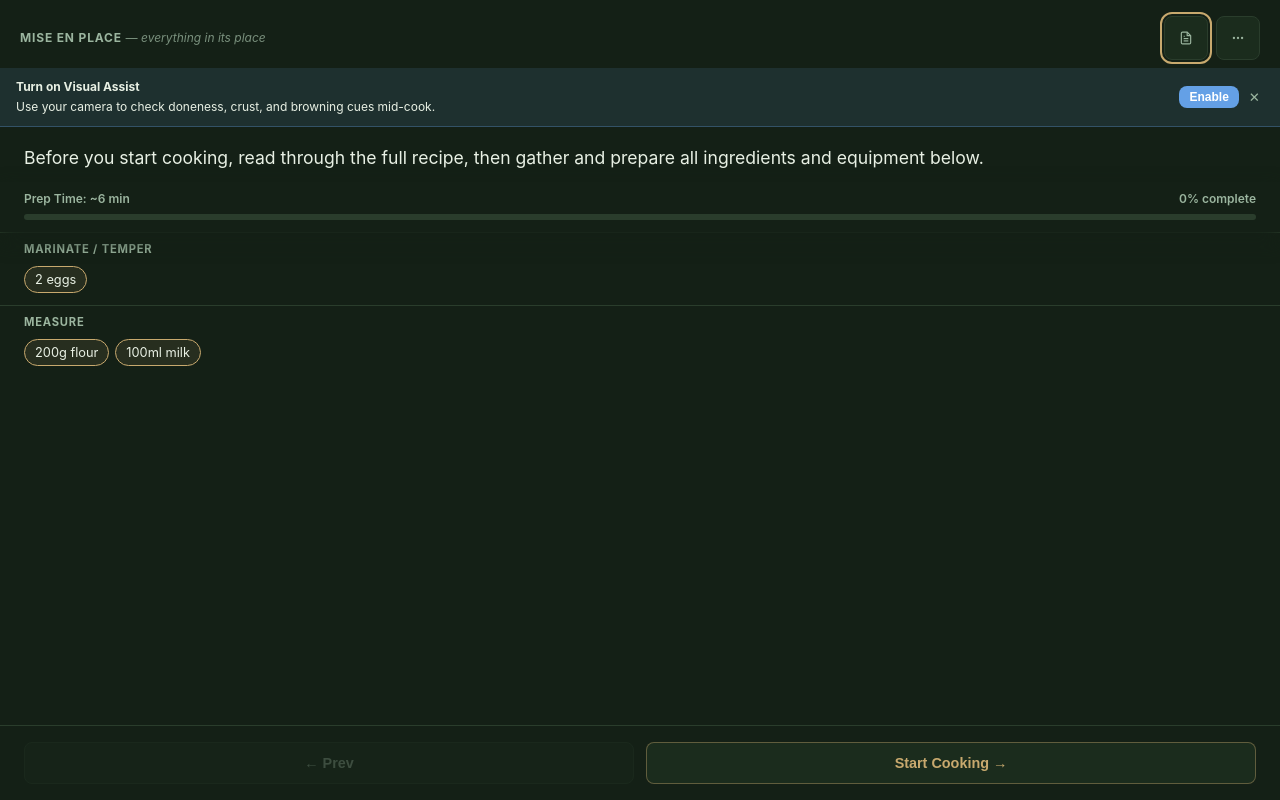
Scenario: CookingNavigator — hands-free button › shows unsupported message when Speech API unavailable
What coordinates should you click on to do the following:
click the button titled "Options"
I would click on:
 (1238, 38)
Its box is [1216,16,1260,60].
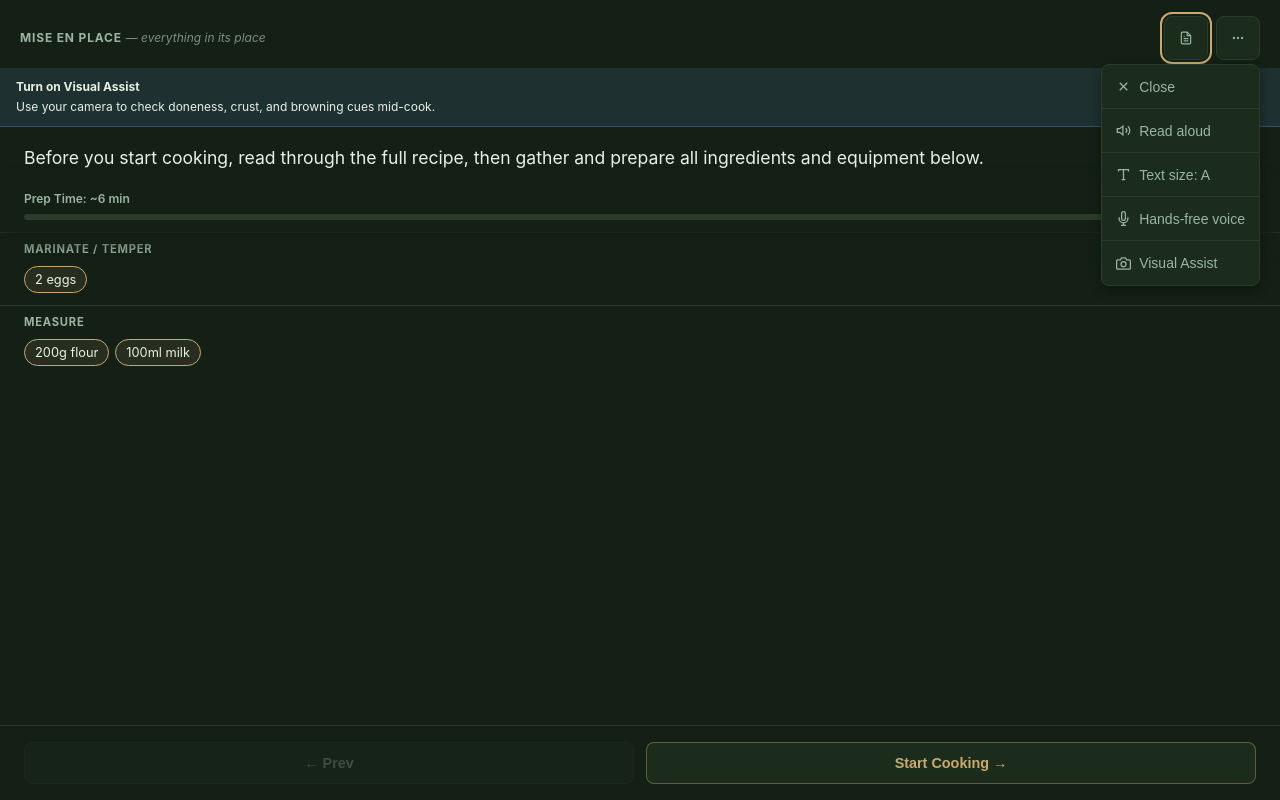
What coordinates should you click on to do the following:
click the menu item titled "Start hands-free voice navigation"
I would click on:
 (1181, 219)
Its box is [1102,197,1259,241].
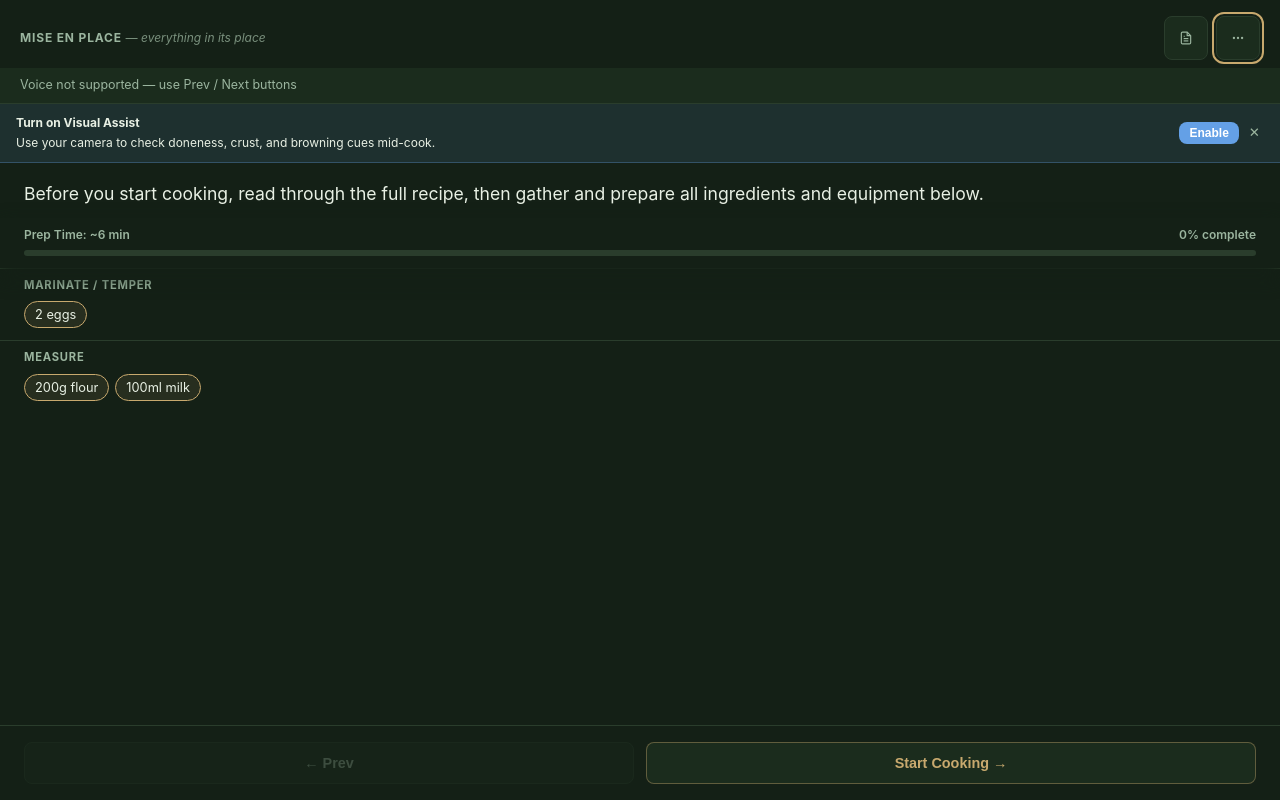
Expected: the text "Voice not supported — use Prev / Next buttons" is shown, [20,76,297,95]
